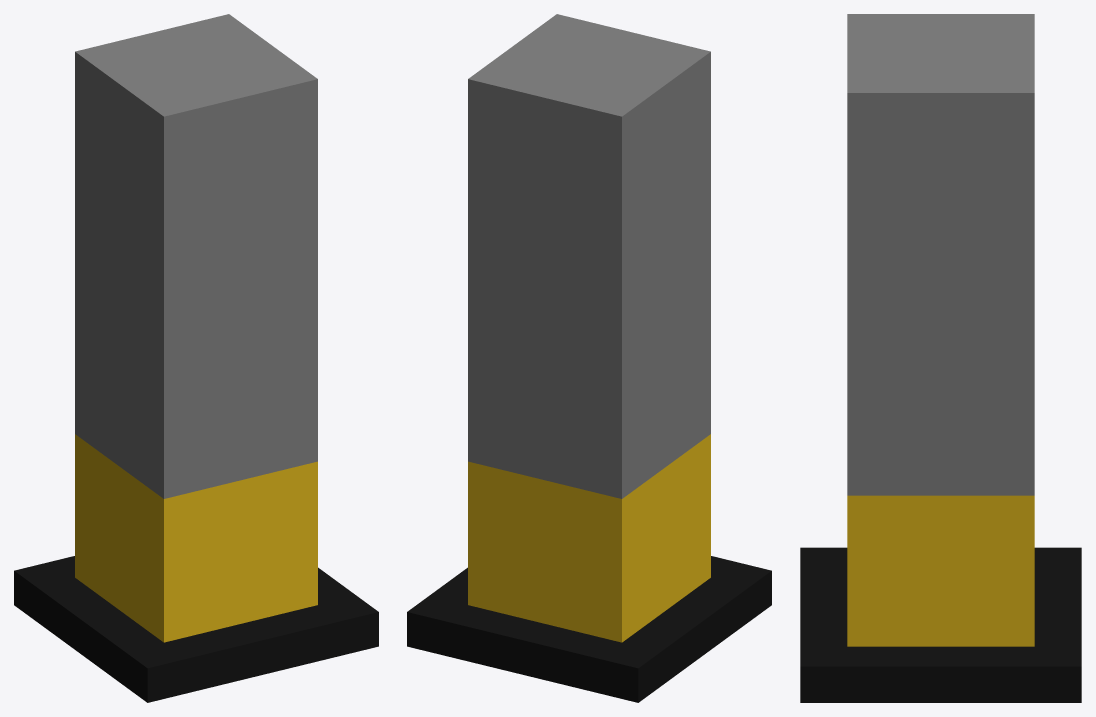
3 views of the same model, side by side, from view 1: azimuth 30°, elevation 25°; view 2: azimuth 150°, elevation 25°; view 3: azimuth 270°, elevation 25° (orthographic). The views are drawn at different scales.
Parts seen in each view (by area): view 1: Cube; view 2: Cube; view 3: Cube.
Part boxes in pixels (x1,y1,x2,y2): Cube: [14, 14, 378, 702]; Cube: [407, 14, 771, 702]; Cube: [800, 14, 1081, 702].
Bounding box in the file's own units: 200 × 463 × 200.
